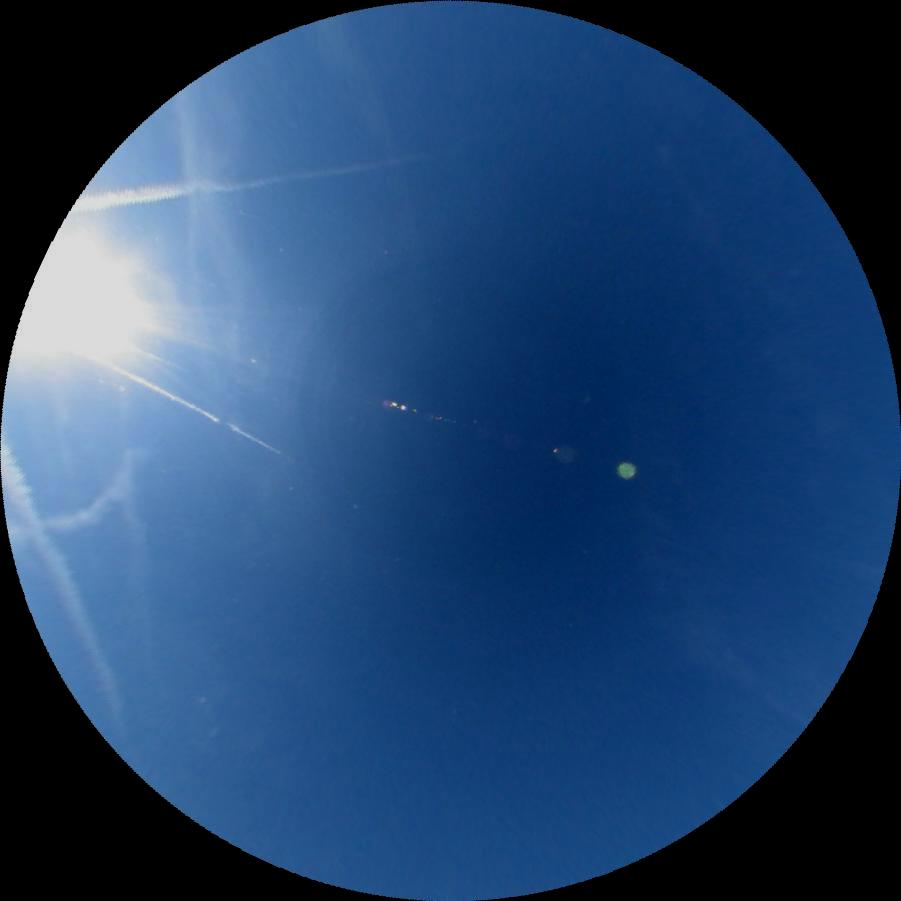contrail veryold: (0, 438, 135, 715), (65, 145, 448, 212)
parasite: (92, 353, 281, 456)
sun: (4, 213, 179, 397)
unknow: (9, 444, 156, 567)
